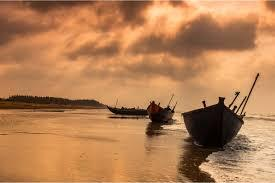fishing boat: (179, 80, 248, 151), (144, 92, 179, 124), (106, 96, 148, 117)
